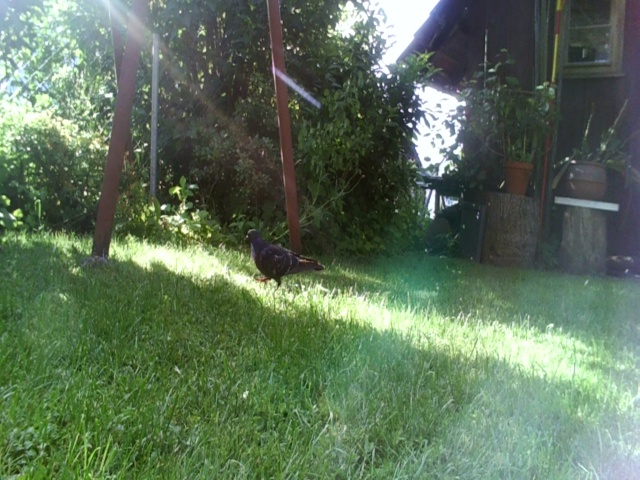Pigeon: (239, 227, 325, 293)
